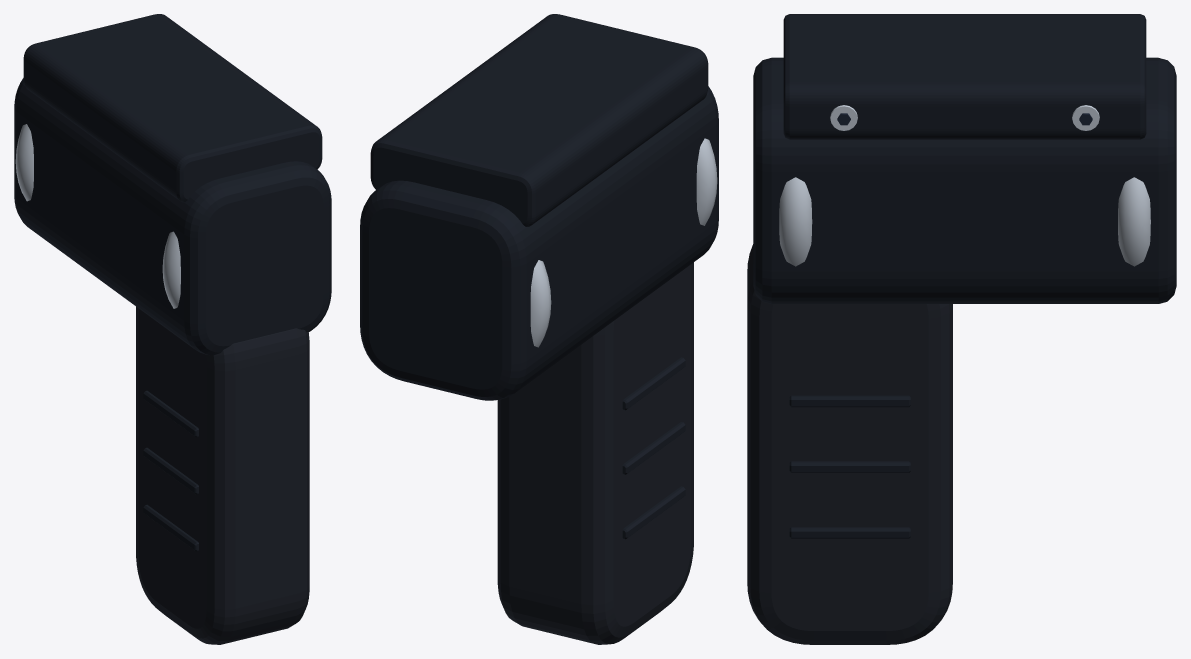
File: attach_stabilizer.glb
3 renders of one model, left to right at view 1: azimuth 30°, elevation 25°; view 2: azimuth 150°, elevation 25°; view 3: azimuth 270°, elevation 25°, orthographic. The views are drawn at different scales.
Parts seen in each view (by area): view 1: attach_stabilizer_foregrip, attach_stabilizer_mass, attach_stabilizer_cradle, attach_stabilizer_gyro0.028, attach_stabilizer_gyro-0.028, attach_stabilizer_groove1, attach_stabilizer_groove0, attach_stabilizer_groove2; view 2: attach_stabilizer_mass, attach_stabilizer_foregrip, attach_stabilizer_cradle, attach_stabilizer_gyro0.028, attach_stabilizer_gyro-0.028, attach_stabilizer_groove1, attach_stabilizer_groove2, attach_stabilizer_groove0; view 3: attach_stabilizer_mass, attach_stabilizer_foregrip, attach_stabilizer_cradle, attach_stabilizer_gyro0.028, attach_stabilizer_gyro-0.028, attach_stabilizer_groove0, attach_stabilizer_groove1, attach_stabilizer_groove2, attach_stabilizer_screws.
Boxes of the visible parts, x1,y1,x2,y2 form: attach_stabilizer_foregrip: (136,306,309,644); attach_stabilizer_mass: (14,78,331,355); attach_stabilizer_cradle: (23,14,322,202); attach_stabilizer_gyro0.028: (162,231,180,308); attach_stabilizer_gyro-0.028: (15,124,33,201); attach_stabilizer_groove1: (143,447,198,494); attach_stabilizer_groove0: (143,390,198,437); attach_stabilizer_groove2: (143,504,198,551); attach_stabilizer_mass: (360,86,718,400); attach_stabilizer_foregrip: (497,262,693,644); attach_stabilizer_cradle: (370,14,708,226); attach_stabilizer_gyro0.028: (696,138,717,225); attach_stabilizer_gyro-0.028: (530,260,551,347); attach_stabilizer_groove1: (622,422,685,474); attach_stabilizer_groove2: (622,486,685,539); attach_stabilizer_groove0: (622,357,685,410); attach_stabilizer_mass: (753,57,1176,303); attach_stabilizer_foregrip: (747,244,952,644); attach_stabilizer_cradle: (783,14,1146,139); attach_stabilizer_gyro0.028: (779,177,812,266); attach_stabilizer_gyro-0.028: (1118,177,1150,266); attach_stabilizer_groove0: (789,395,910,407); attach_stabilizer_groove1: (789,461,910,472); attach_stabilizer_groove2: (789,527,910,538); attach_stabilizer_screws: (830,105,1099,130).
Bounding box in the file's own units: 0.036 × 0.105 × 0.071.
